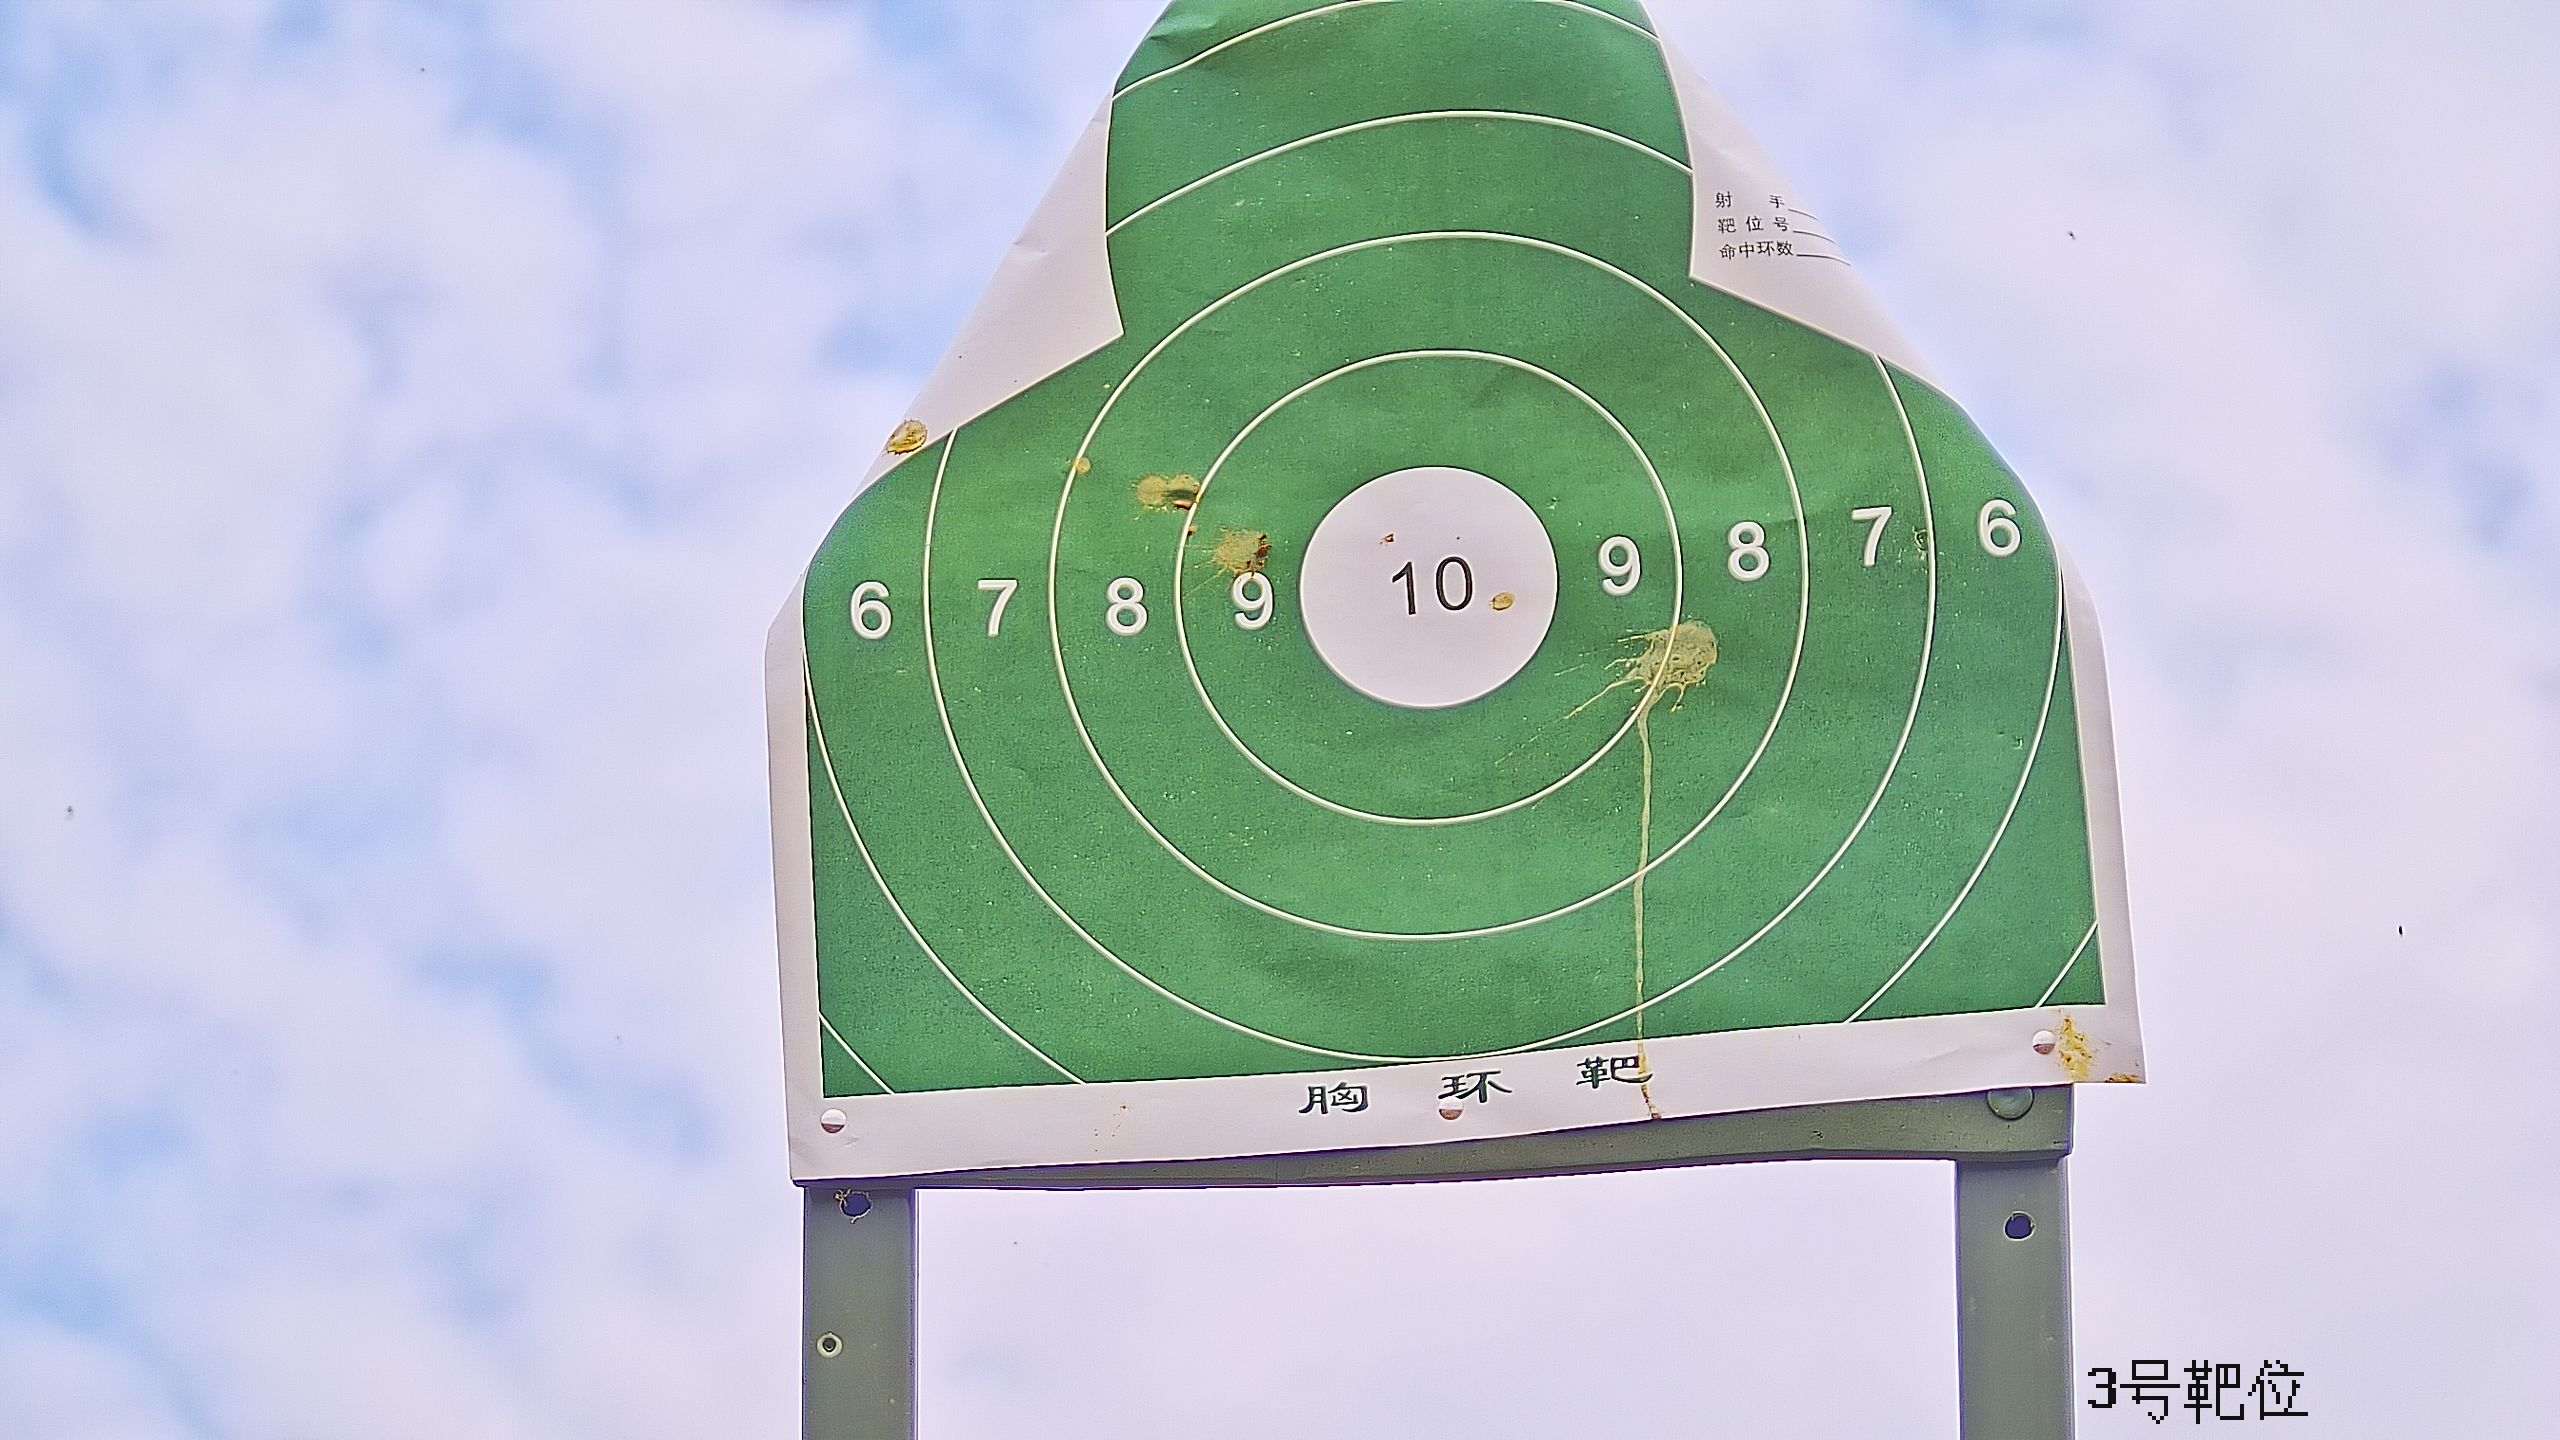kernel: (1422, 585, 1429, 591)
target: (795, 2, 2115, 1102)
ten: (1298, 466, 1560, 707)
